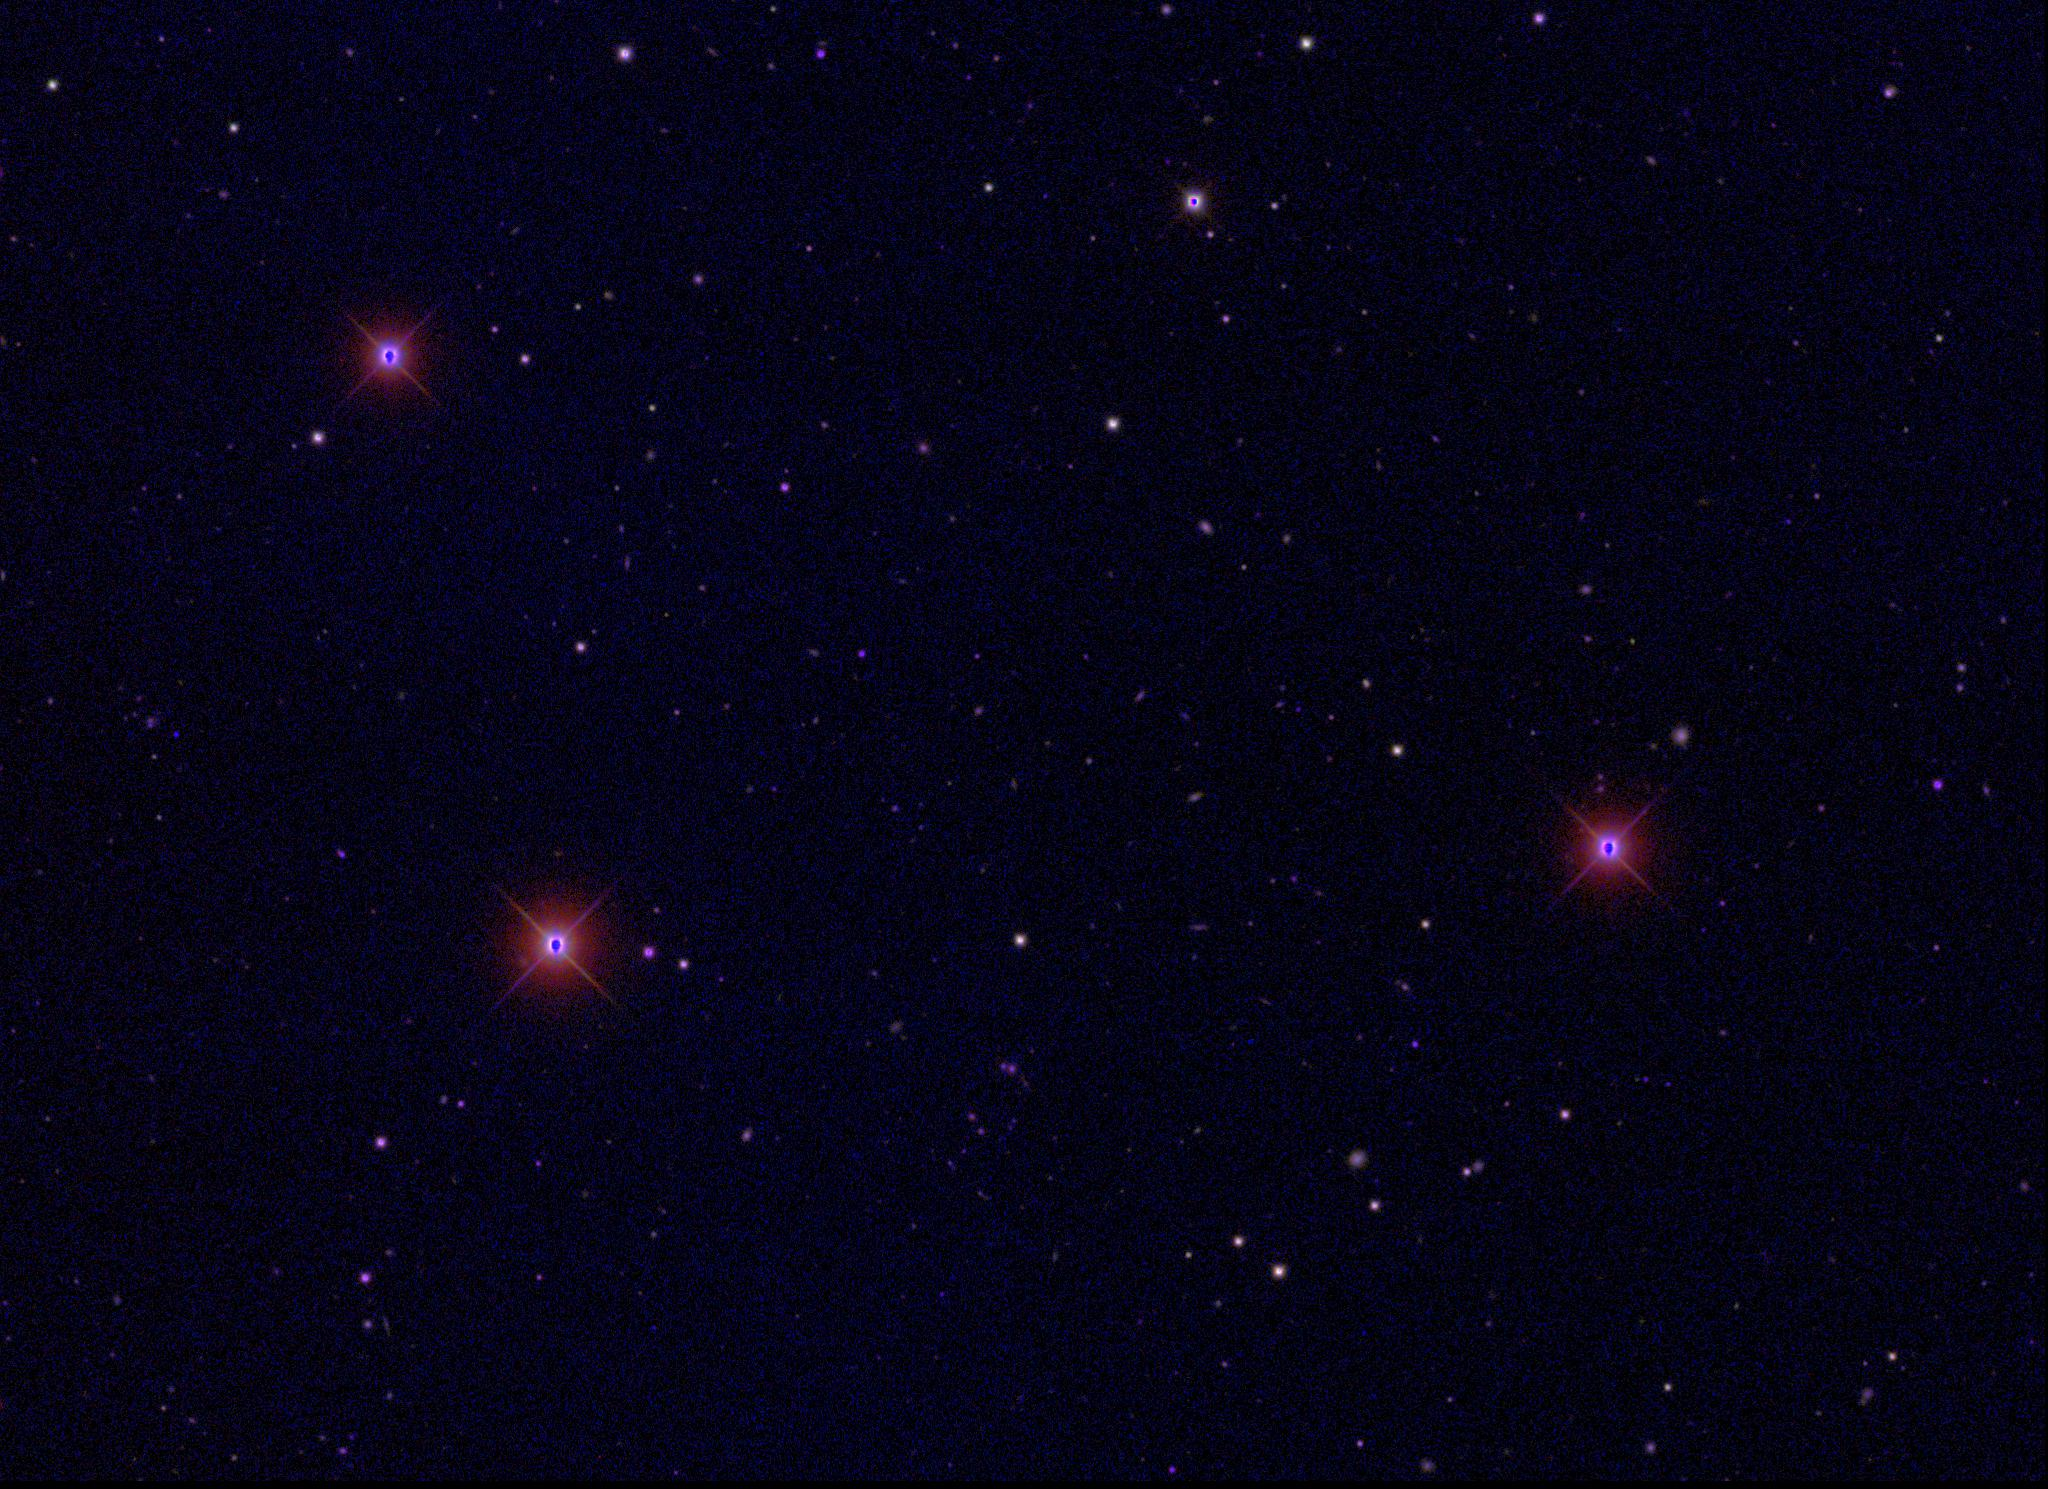L: (169, 727, 181, 741)
